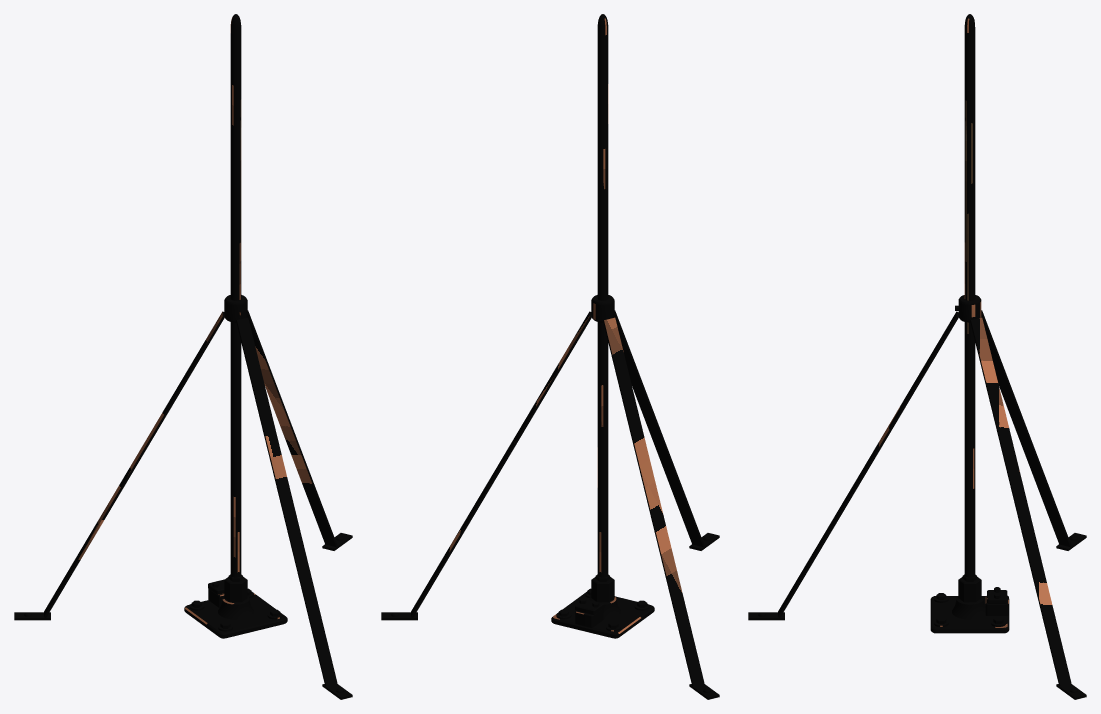
Rendered from item.obj.
The picture shows the model from 3 angles, left to right: view 1: azimuth 30°, elevation 25°; view 2: azimuth 150°, elevation 25°; view 3: azimuth 270°, elevation 25°; orthographic projection.
Parts seen in each view (by area): view 1: rod, leg_1, leg_0, leg_2, plate, boss, socket; view 2: rod, leg_2, leg_1, leg_0, plate, collar, socket; view 3: rod, leg_0, leg_2, leg_1, plate, boss, collar, socket.
Boxes of the visible parts, left/top/right/bottom form: rod: left=230, top=14, right=241, bottom=577; leg_1: left=236, top=317, right=337, bottom=686; leg_0: left=247, top=310, right=337, bottom=546; leg_2: left=44, top=311, right=224, bottom=617; plate: left=184, top=593, right=287, bottom=638; boss: left=218, top=596, right=253, bottom=619; socket: left=224, top=576, right=247, bottom=602; rod: left=597, top=14, right=608, bottom=577; leg_2: left=603, top=317, right=704, bottom=686; leg_1: left=614, top=310, right=704, bottom=546; leg_0: left=411, top=311, right=591, bottom=617; plate: left=551, top=593, right=654, bottom=638; collar: left=591, top=295, right=614, bottom=322; socket: left=591, top=576, right=614, bottom=602; rod: left=964, top=14, right=975, bottom=577; leg_0: left=970, top=317, right=1071, bottom=686; leg_2: left=981, top=310, right=1071, bottom=546; leg_1: left=778, top=311, right=958, bottom=617; plate: left=930, top=596, right=1009, bottom=633; boss: left=952, top=596, right=985, bottom=619; collar: left=958, top=295, right=981, bottom=322; socket: left=958, top=576, right=981, bottom=602.
Size of the model in its own units: 0.5729 by 0.976 by 0.4962.
